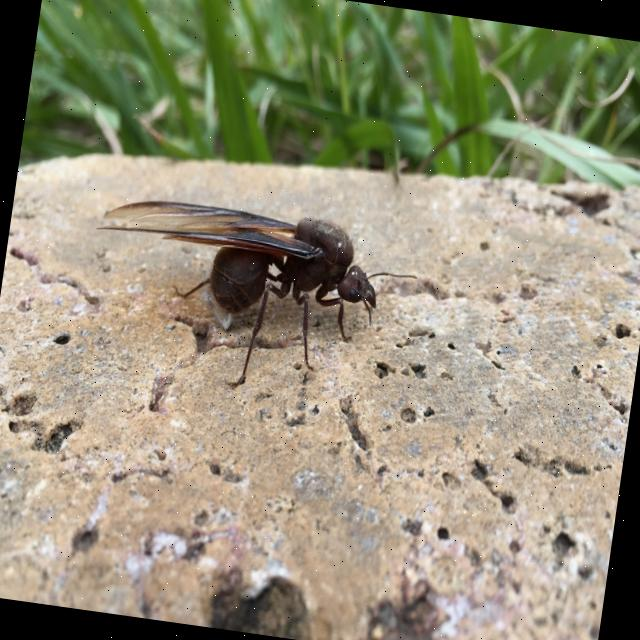Alive-Female-Alate: (76, 188, 425, 412)
